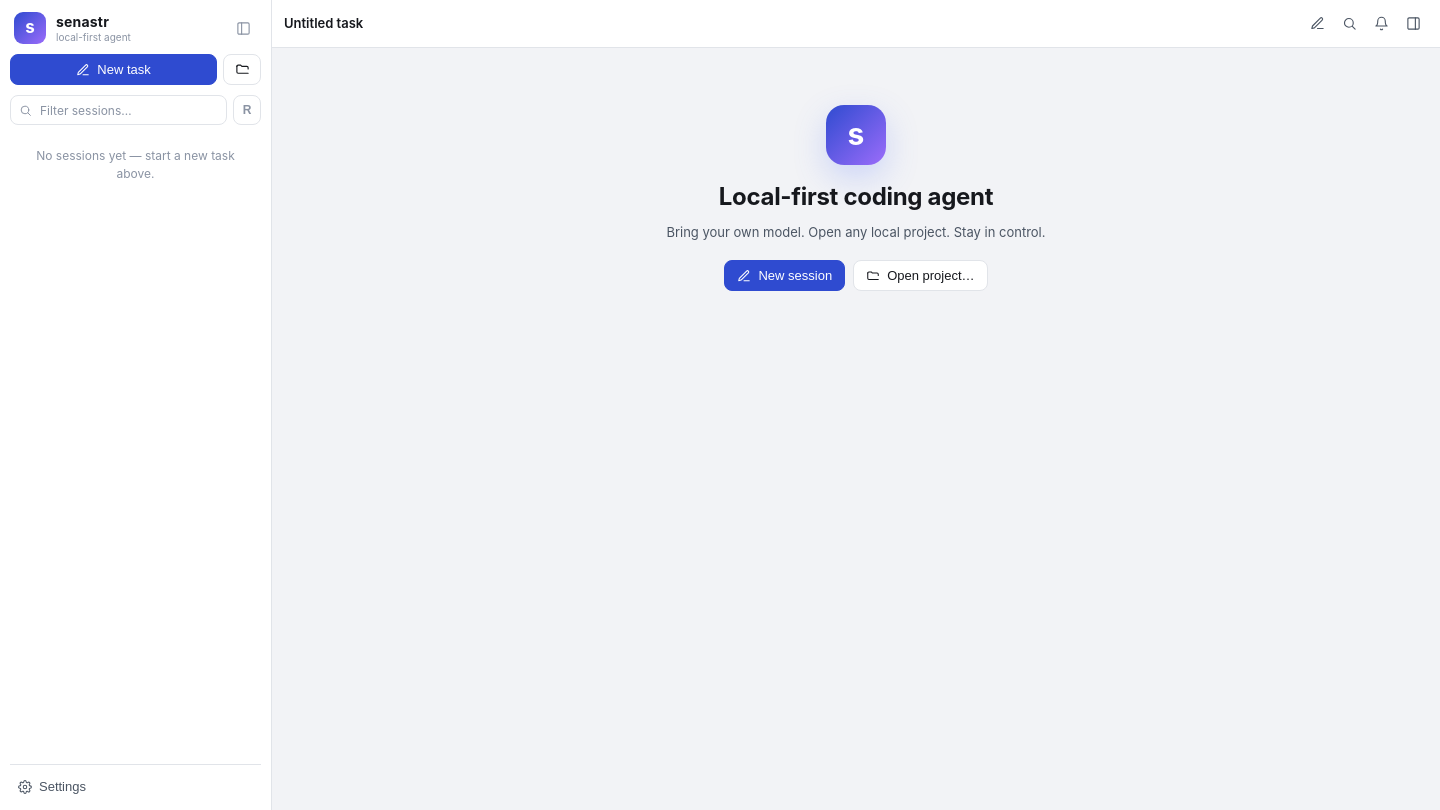
Test case: chat shell — topbar › sidebar collapse and expand
The image size is (1440, 810).
Click the button named "Collapse sidebar (Ctrl+B)" at (243, 28), box [229,14,257,42]
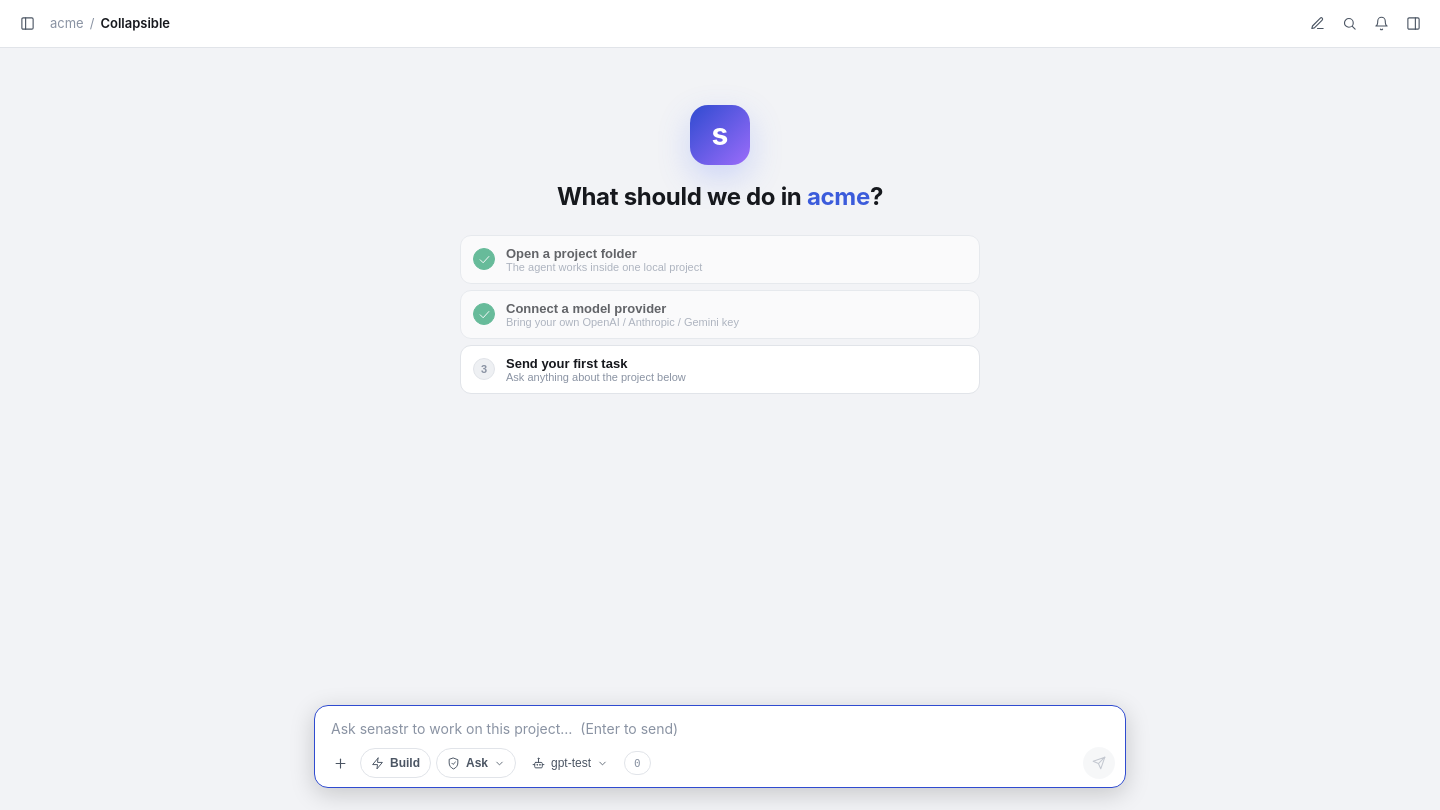
Check: the text labelled "sessions" is gone
Click the button named "Expand sidebar (Ctrl+B)" at (27, 24), box [12,8,42,38]
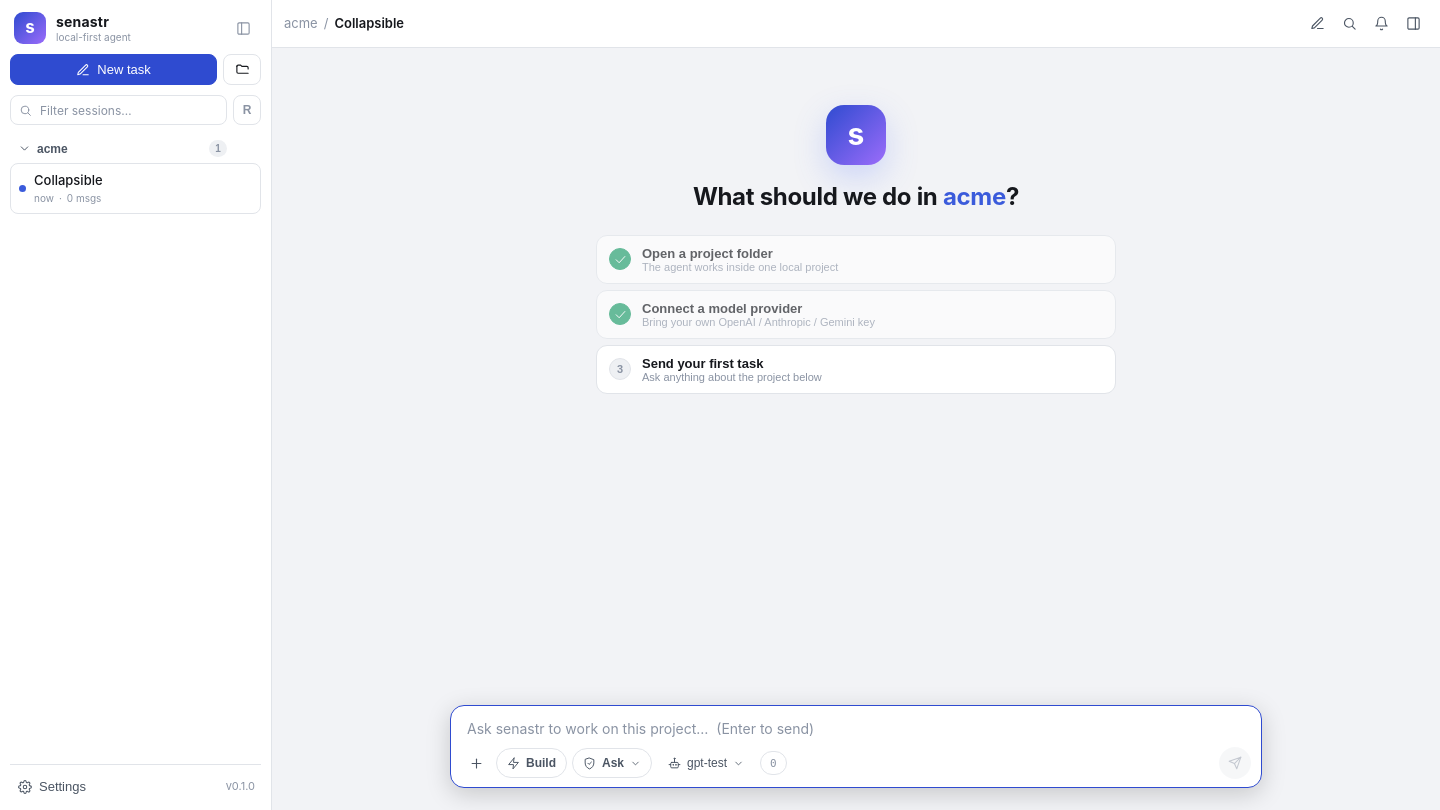
Check: the element named "Sessions" is shown, box [0,0,272,809]
Check: the text "Collapsible" below "local-first agent" is shown, box [34,172,103,188]
